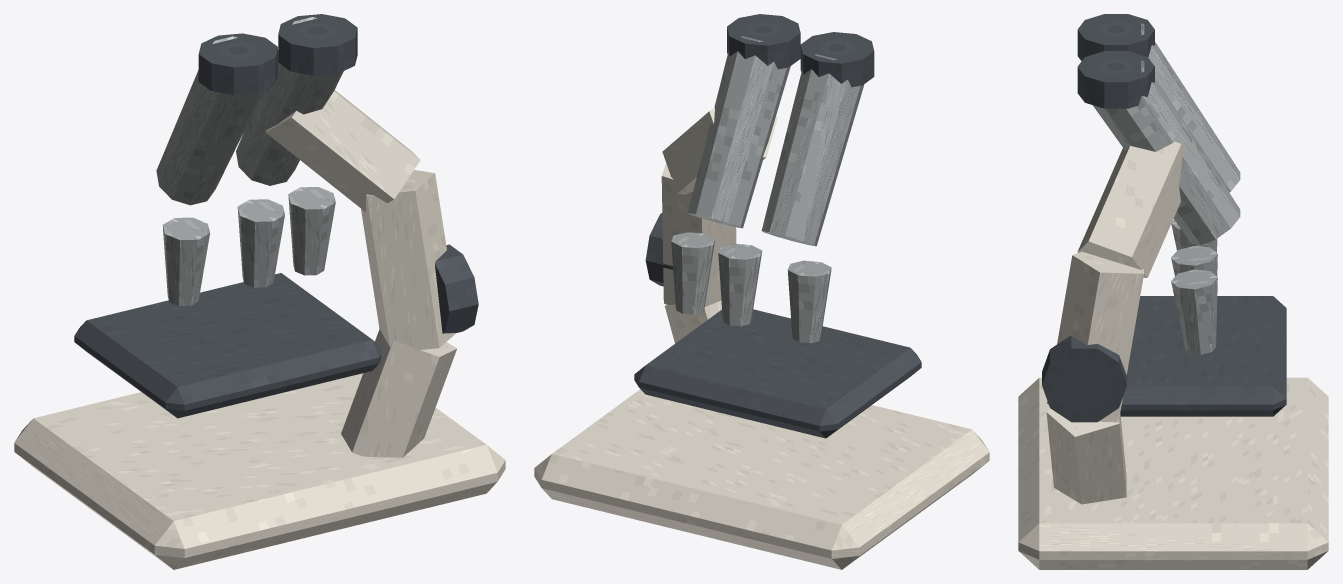
File: microscope_dissecting.glb
The picture shows the model from 3 angles, left to right: view 1: azimuth 30°, elevation 25°; view 2: azimuth 150°, elevation 25°; view 3: azimuth 270°, elevation 25°; orthographic projection. The views are drawn at different scales.
Visible parts, largest first — view 1: block_weighted base, block_sample stage, block_inclined eyepiece (×2), block_curved support 1, block_short objective lens (×3), block_curved support 2, block_curved support 0, block_rubber eyecup (×2), block_focus knob; view 2: block_weighted base, block_sample stage, block_inclined eyepiece (×2), block_short objective lens (×3), block_rubber eyecup (×2), block_curved support 1, block_curved support 2, block_curved support 0, block_focus knob; view 3: block_weighted base, block_sample stage, block_inclined eyepiece (×2), block_curved support 2, block_curved support 1, block_rubber eyecup (×2), block_curved support 0, block_focus knob, block_short objective lens (×3).
Boxes of the visible parts, x1=… form: block_weighted base: x1=14, y1=373, x2=505, y2=569; block_sample stage: x1=74, y1=273, x2=381, y2=418; block_inclined eyepiece (×2): x1=156, y1=17, x2=343, y2=205; block_curved support 1: x1=361, y1=170, x2=455, y2=350; block_short objective lens (×3): x1=162, y1=187, x2=335, y2=305; block_curved support 2: x1=265, y1=90, x2=420, y2=211; block_curved support 0: x1=341, y1=329, x2=456, y2=457; block_rubber eyecup (×2): x1=198, y1=14, x2=357, y2=95; block_focus knob: x1=435, y1=244, x2=478, y2=333; block_weighted base: x1=534, y1=389, x2=989, y2=569; block_sample stage: x1=634, y1=309, x2=921, y2=438; block_inclined eyepiece (×2): x1=688, y1=35, x2=864, y2=246; block_short objective lens (×3): x1=671, y1=232, x2=831, y2=343; block_rubber eyecup (×2): x1=727, y1=14, x2=874, y2=87; block_curved support 1: x1=661, y1=163, x2=736, y2=306; block_curved support 2: x1=662, y1=107, x2=777, y2=194; block_curved support 0: x1=664, y1=300, x2=721, y2=343; block_focus knob: x1=645, y1=213, x2=673, y2=286; block_weighted base: x1=1018, y1=377, x2=1328, y2=569; block_sample stage: x1=1120, y1=296, x2=1286, y2=416; block_inclined eyepiece (×2): x1=1093, y1=23, x2=1240, y2=245; block_curved support 2: x1=1077, y1=141, x2=1186, y2=277; block_curved support 1: x1=1047, y1=251, x2=1143, y2=422; block_rubber eyecup (×2): x1=1077, y1=14, x2=1154, y2=108; block_curved support 0: x1=1046, y1=408, x2=1126, y2=504; block_focus knob: x1=1042, y1=336, x2=1126, y2=422; block_short objective lens (×3): x1=1171, y1=219, x2=1217, y2=354.
Bounding box in the file's own units: 0.2378 × 0.3016 × 0.1905.
Materials: 1 (1 with a texture image).
